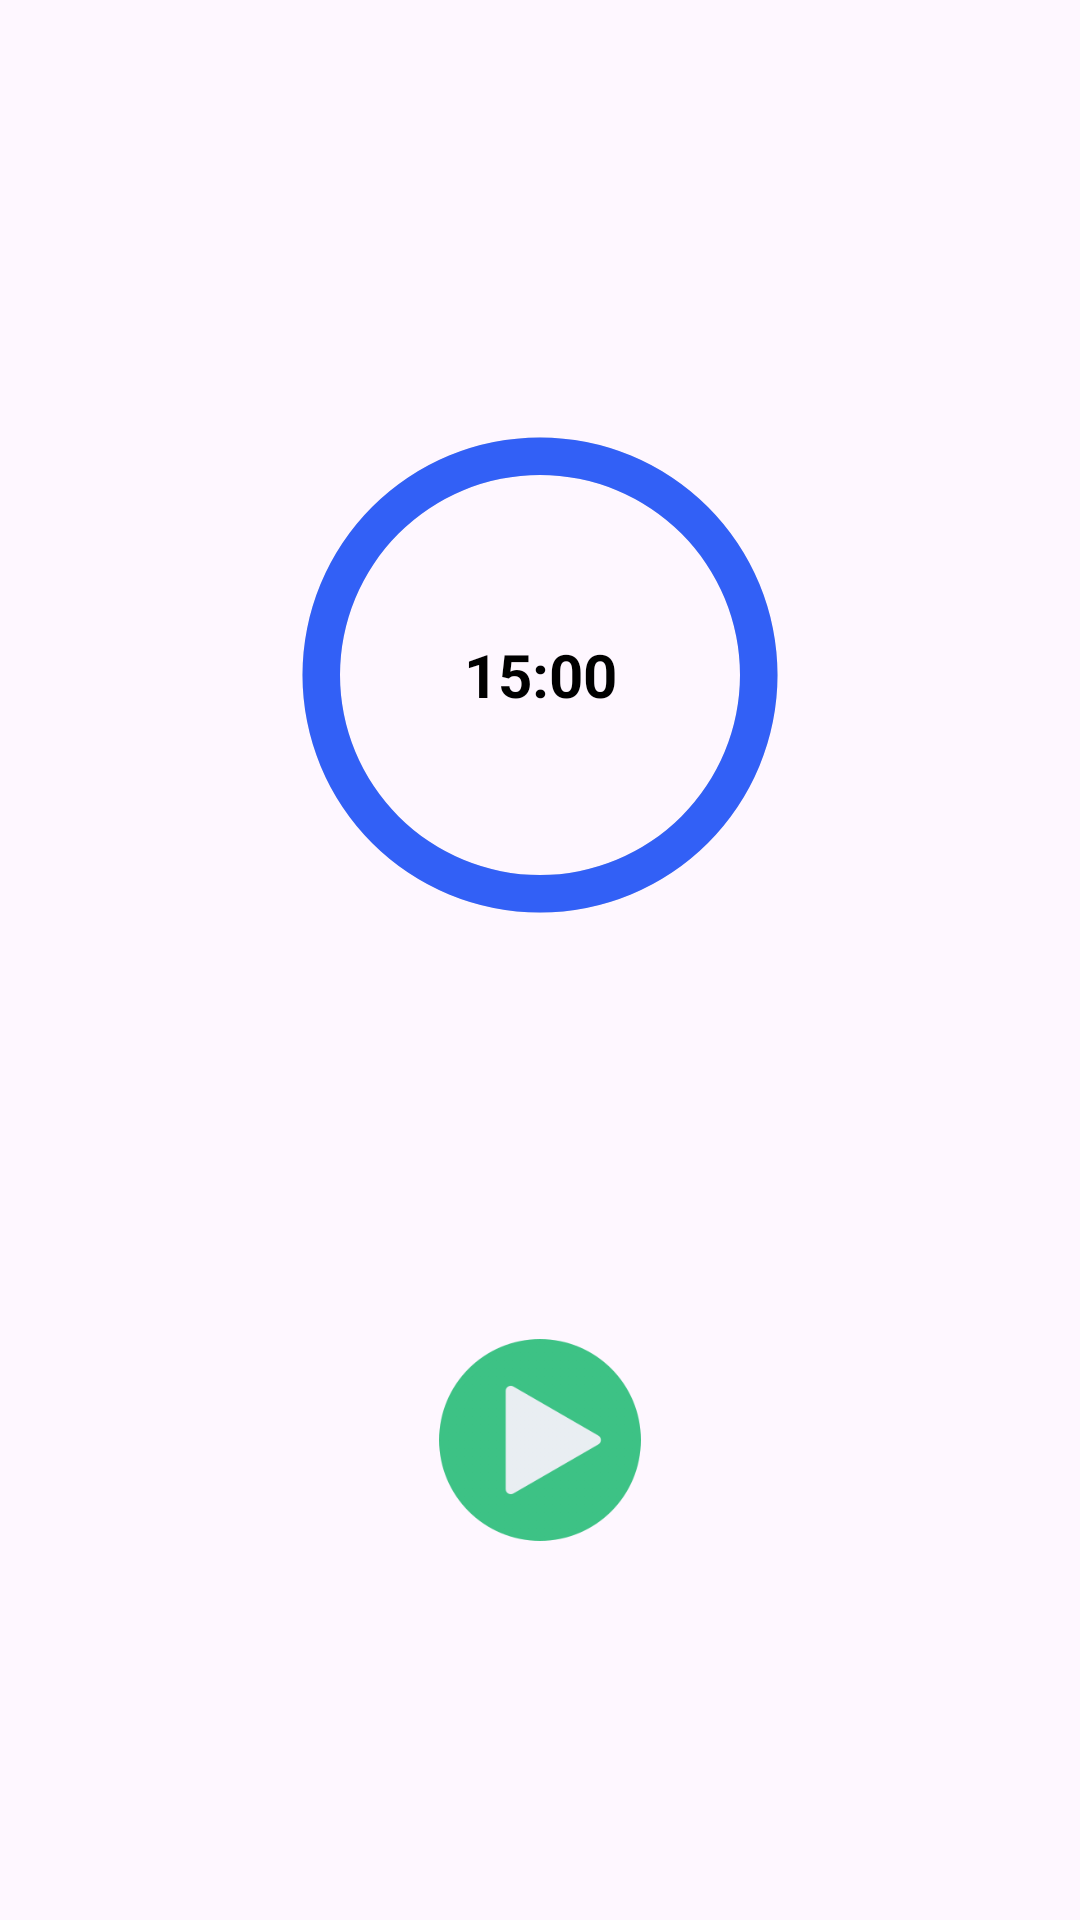

Icon click points for this 1080px x 1920px phone screenshot, format [x,y]:
play: [540,1440]
